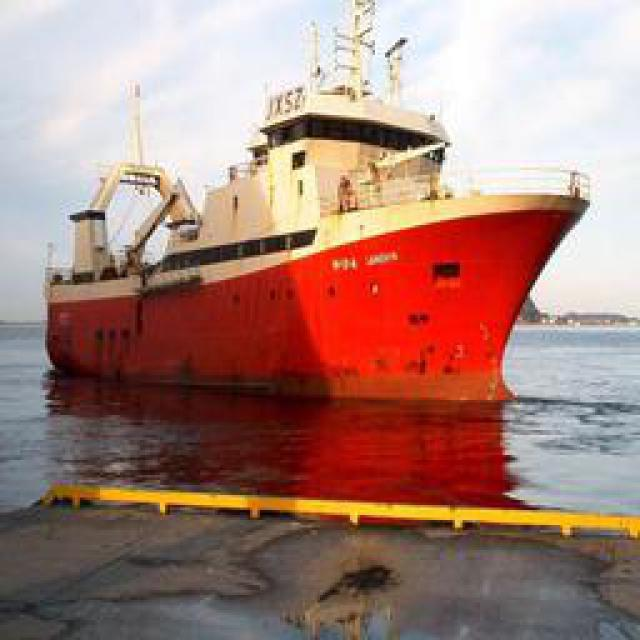Ship: (47, 35, 587, 395)
